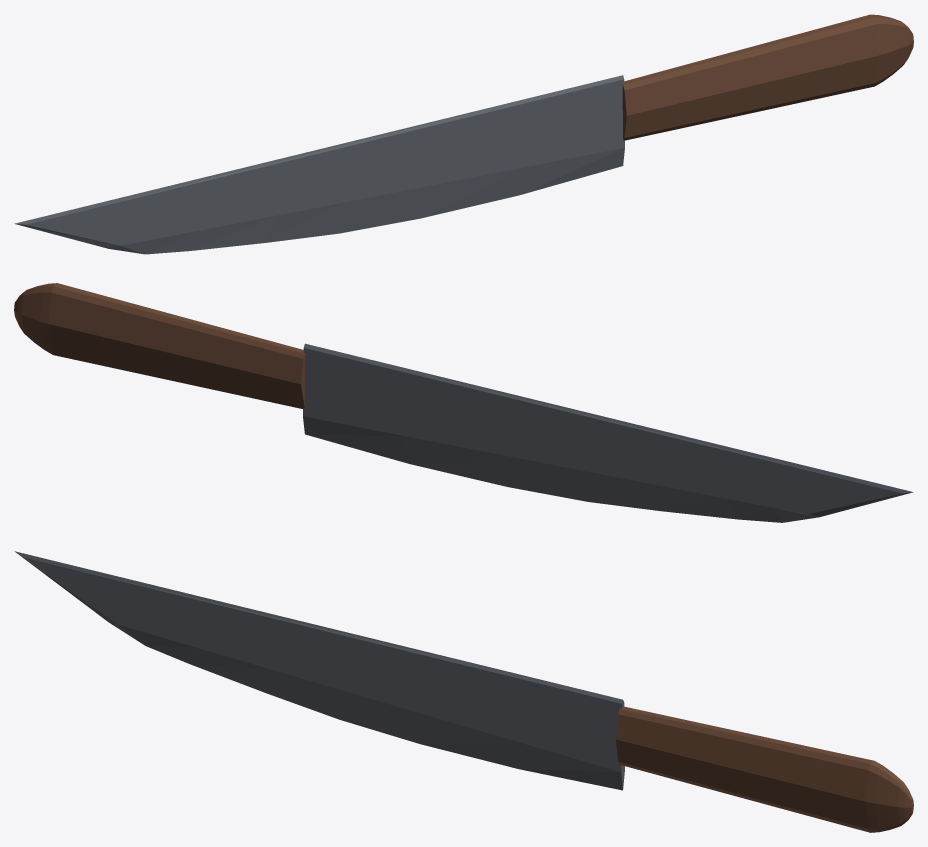
File: Knife.fbx
The picture shows the model from 3 angles, top to bottom: view 1: azimuth 30°, elevation 25°; view 2: azimuth 150°, elevation 25°; view 3: azimuth 330°, elevation 25°; orthographic projection.
Visible parts, largest first — view 1: Blade.001; view 2: Blade.001; view 3: Blade.001.
Part boxes in pixels (bbox=[...]): Blade.001: bbox=[14, 14, 913, 254]; Blade.001: bbox=[14, 283, 913, 522]; Blade.001: bbox=[14, 551, 913, 832].
Size of the model in its own units: 1236 by 125 by 32.32.
